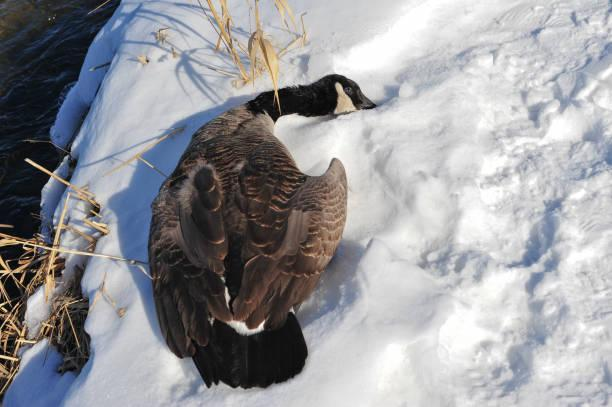Canadian-Goose: (147, 75, 379, 380)
